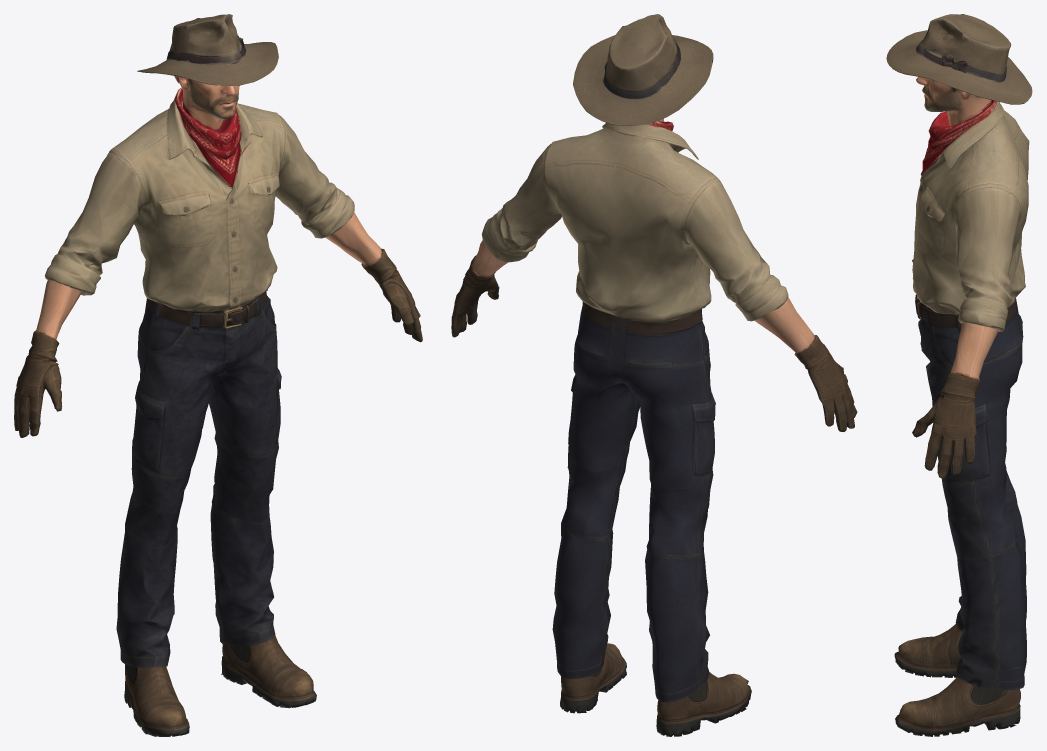
File: farmer_meshy.glb
3 renders of one model, left to right at view 1: azimuth 30°, elevation 25°; view 2: azimuth 150°, elevation 25°; view 3: azimuth 270°, elevation 25°, orthographic.
Bounding box in the file's own units: 0.5796 × 0.9507 × 0.1846.
1 material, 1 textured.
